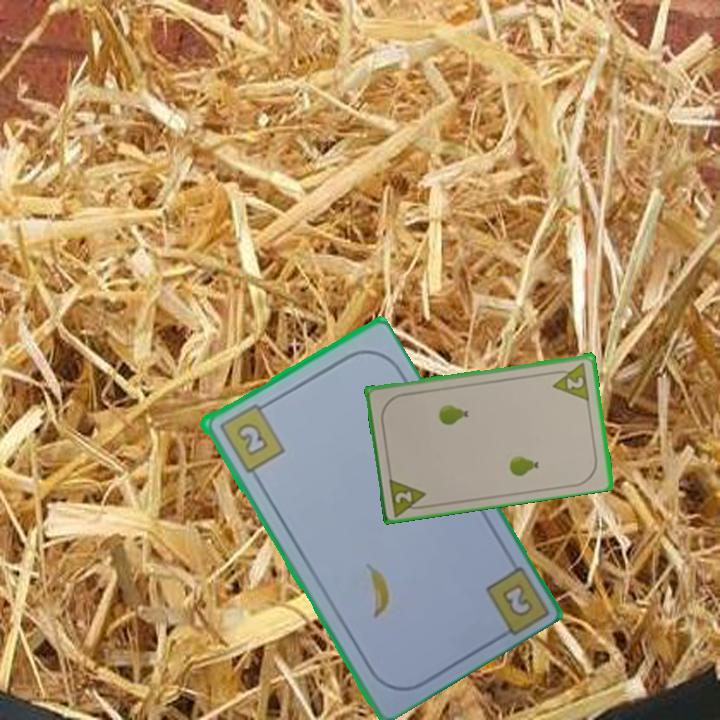2b: (215, 398, 287, 475), (501, 583, 533, 617)
2p: (385, 473, 432, 518), (548, 358, 593, 402)
